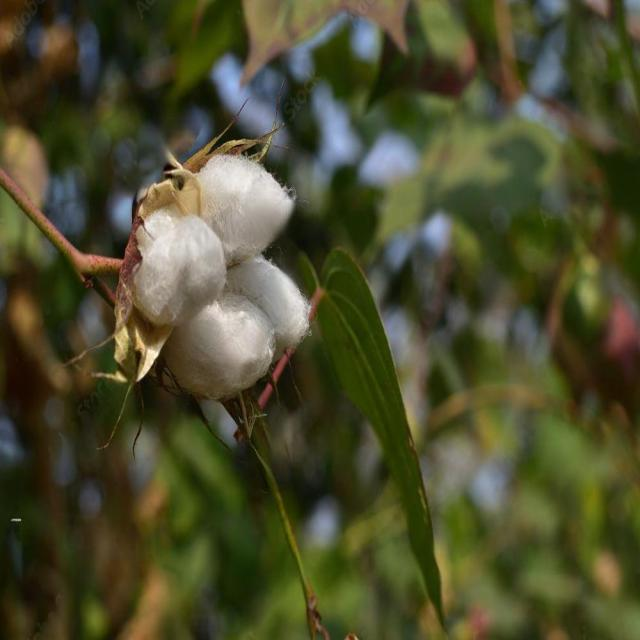Leaf: (45, 84, 320, 477)
